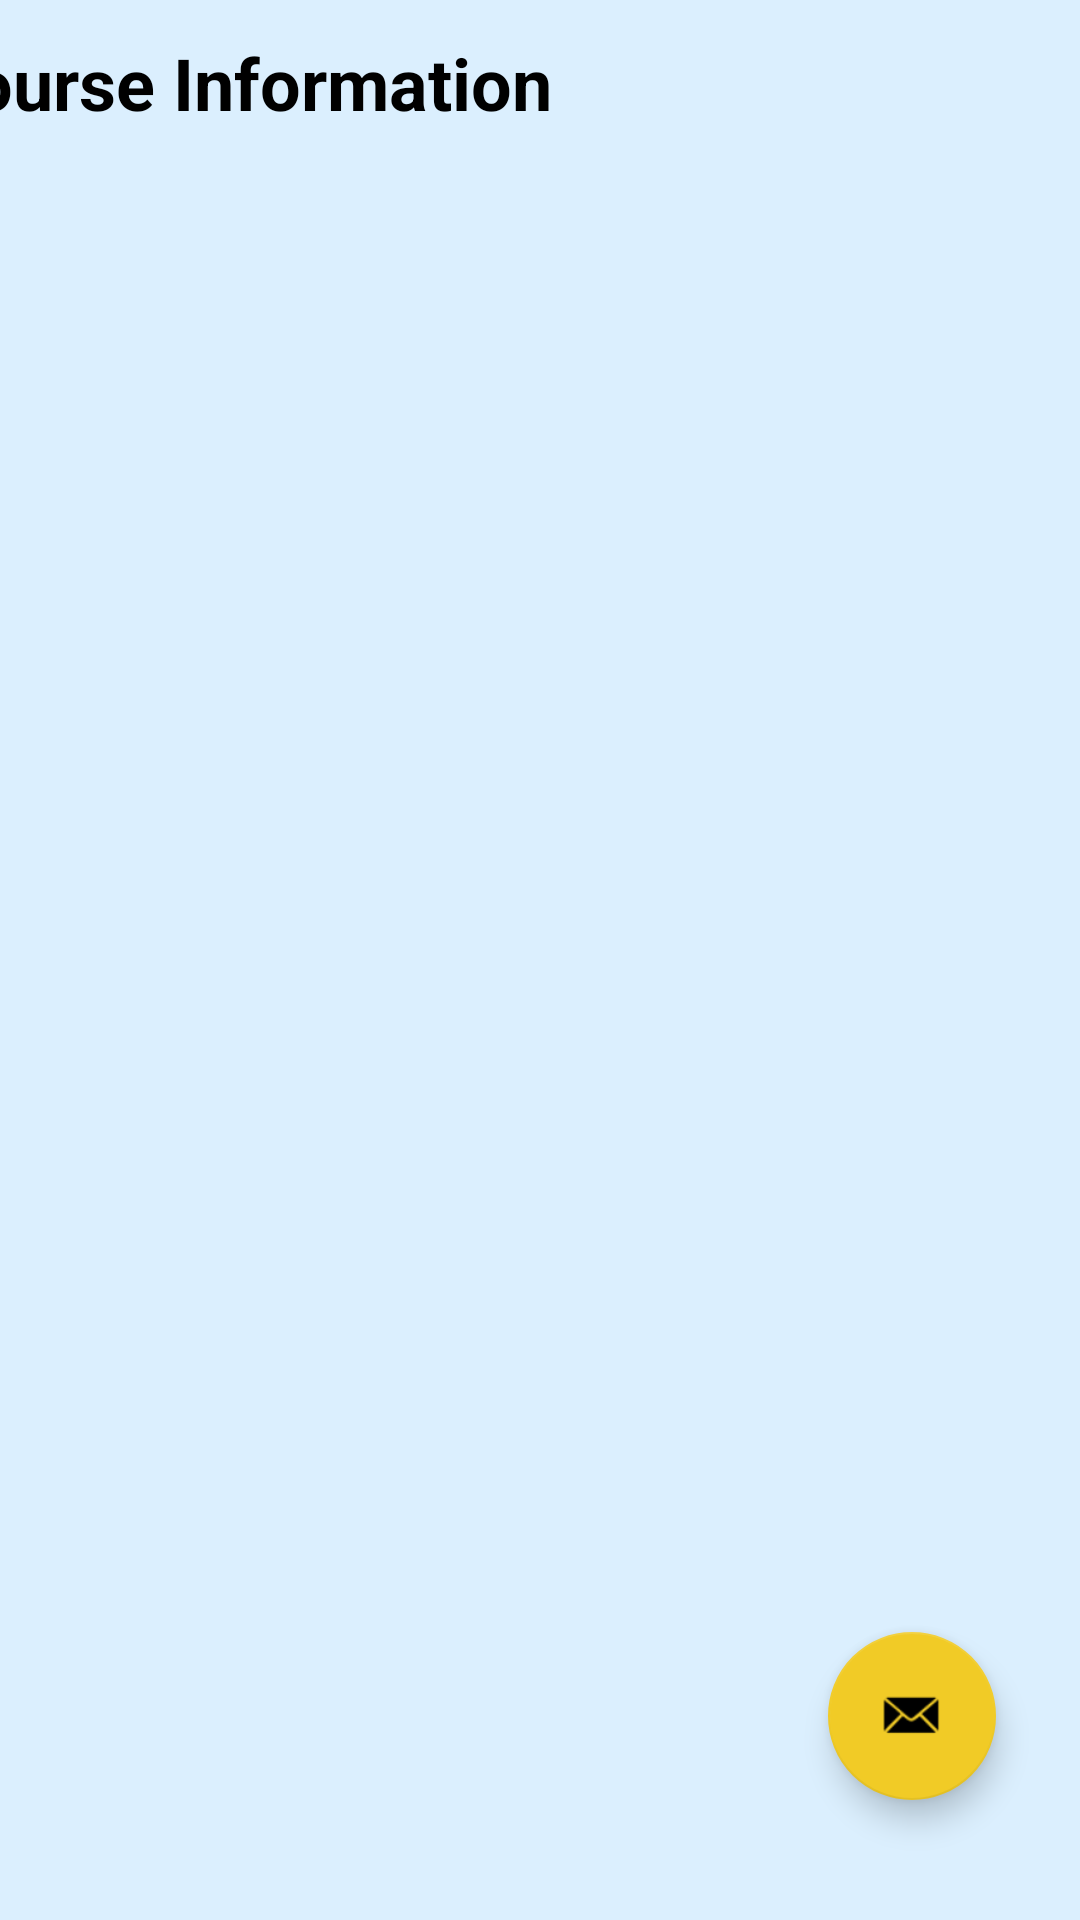

Where to tap for icons on this 1080 x 1920 app screen, as [x,y]:
sym action email: [912,1716]
